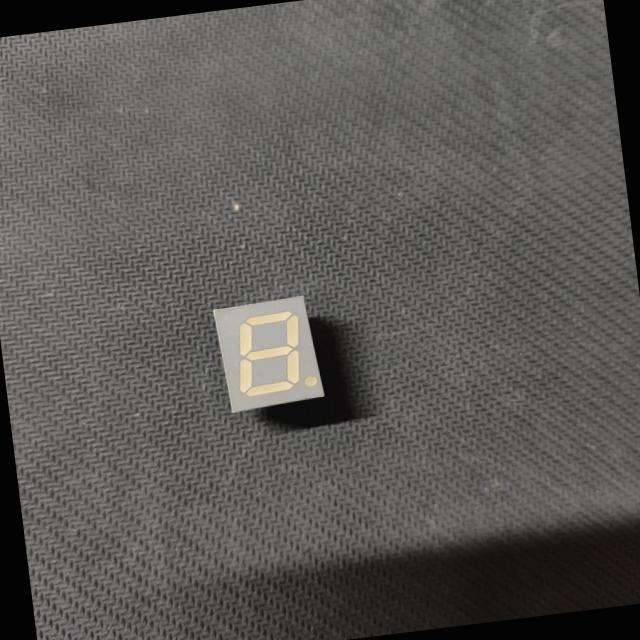sevensegment: (199, 284, 347, 424)
